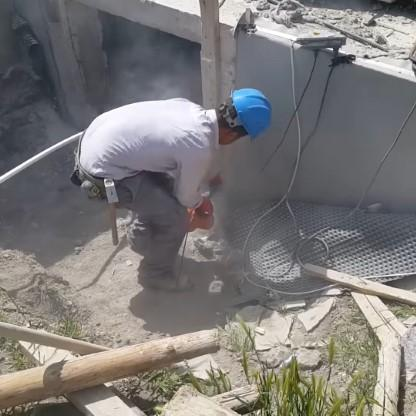helmet: (206, 85, 272, 163)
